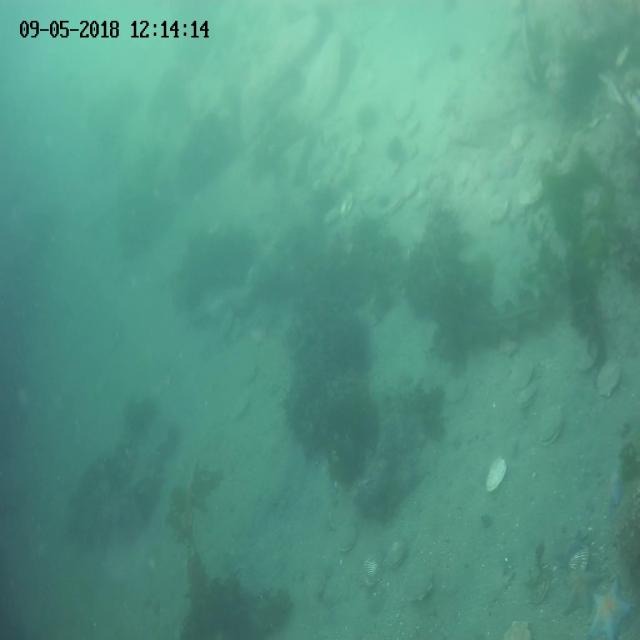scallop: (536, 403, 566, 450), (598, 356, 624, 400), (405, 564, 435, 601), (485, 453, 508, 495), (520, 176, 550, 207), (334, 521, 360, 554), (362, 550, 384, 588), (507, 121, 533, 152), (504, 615, 536, 640), (486, 197, 512, 225), (384, 536, 408, 566), (511, 359, 533, 391), (513, 383, 540, 409), (444, 379, 468, 406), (228, 394, 251, 420), (346, 130, 367, 158), (237, 364, 260, 388), (392, 99, 416, 122), (338, 194, 356, 221), (322, 203, 343, 226), (429, 178, 451, 197), (574, 354, 594, 374), (498, 338, 519, 357), (403, 178, 418, 200), (416, 187, 434, 205), (403, 143, 420, 160)
starfish: (586, 576, 631, 640), (560, 563, 604, 617), (604, 463, 626, 513)
